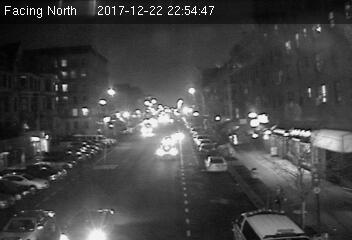car: (202, 155, 230, 172), (154, 143, 180, 161)
police: (227, 204, 309, 240)
